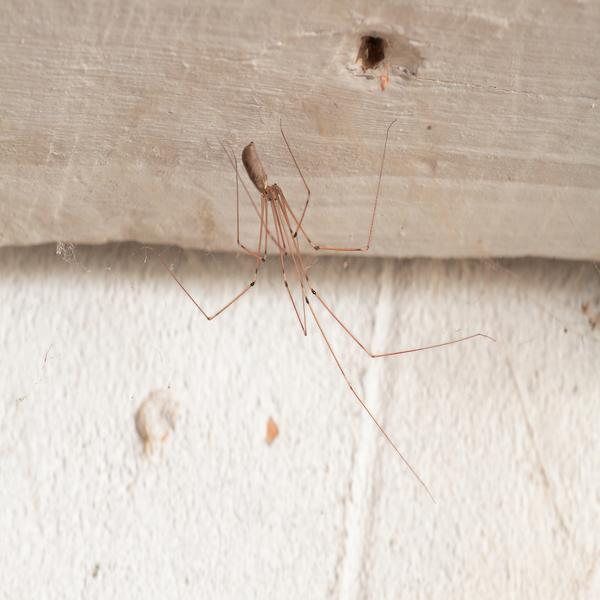Daddy Long Legs Spider: (201, 128, 494, 497)
